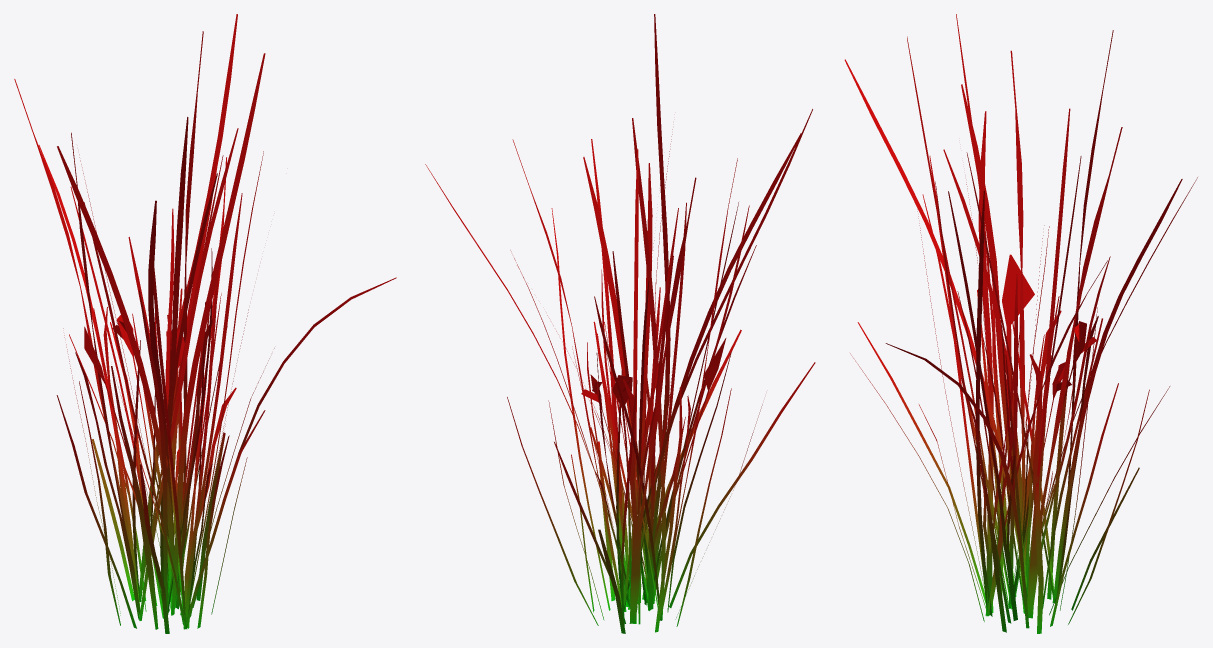
File: ueyoebmia_Var4_LOD1.fbx
The picture shows the model from 3 angles, left to right: view 1: azimuth 30°, elevation 25°; view 2: azimuth 150°, elevation 25°; view 3: azimuth 270°, elevation 25°; orthographic projection. The views are drawn at different scales.
Visible parts, largest first — view 1: _9685_Var4_LOD1; view 2: _9685_Var4_LOD1; view 3: _9685_Var4_LOD1.
Boxes of the visible parts, x1,y1,x2,y2 form: _9685_Var4_LOD1: (14,14,396,633); _9685_Var4_LOD1: (425,14,815,633); _9685_Var4_LOD1: (844,14,1197,633).
Bounding box in the file's own units: 21.7 × 40.6 × 21.78.
